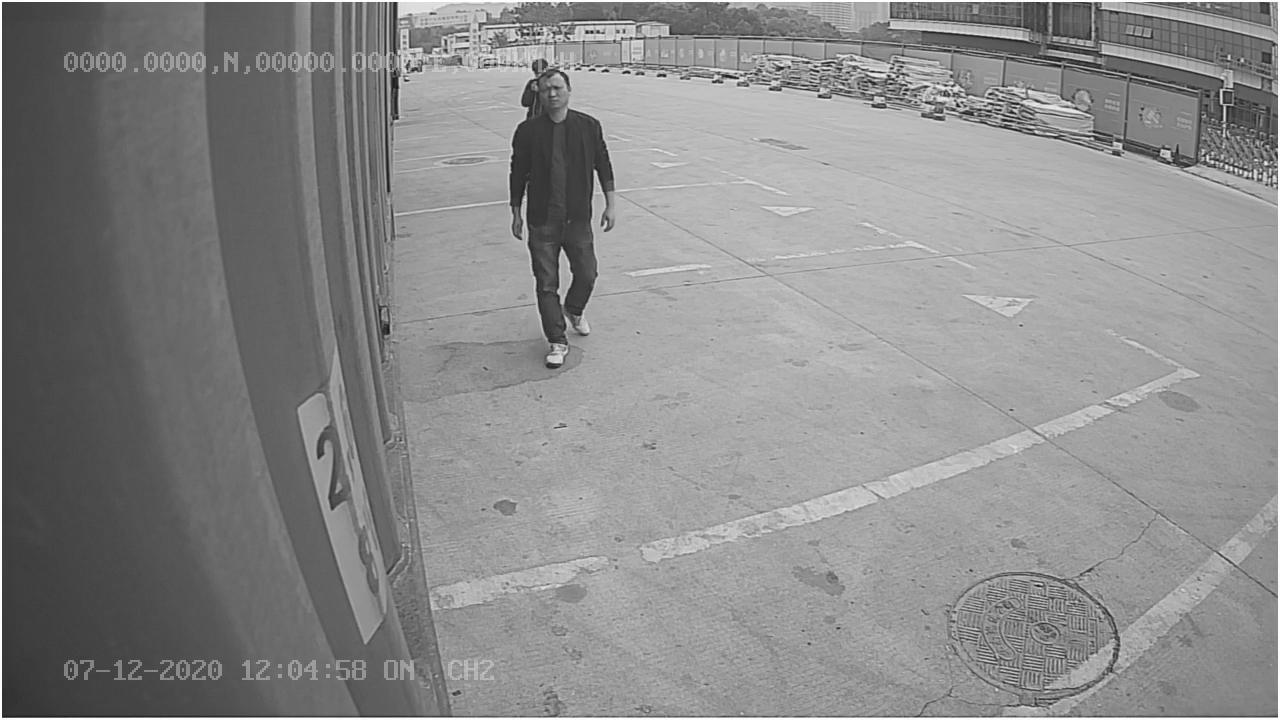person: (508, 69, 615, 368)
